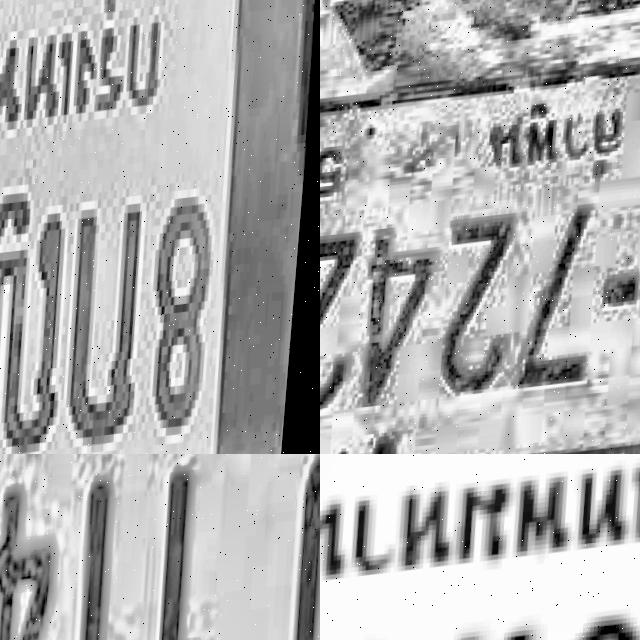license-plate: (0, 0, 320, 454), (320, 21, 640, 454), (0, 454, 320, 640), (320, 454, 640, 640)
